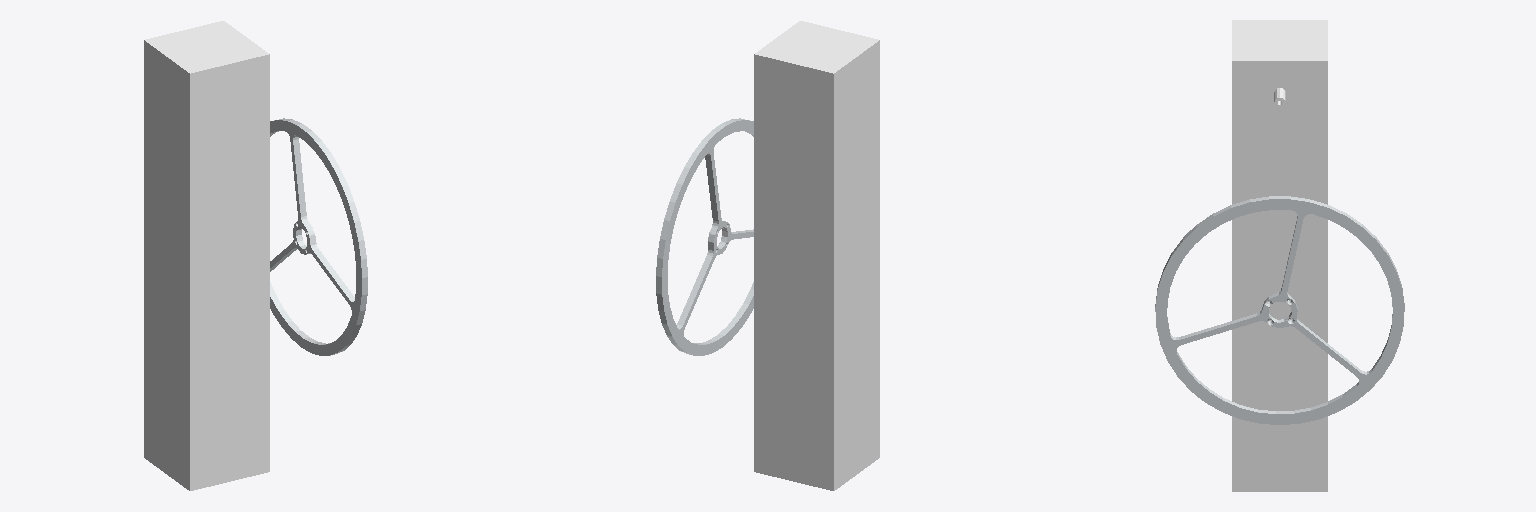
The robot description file, URDF, robot "inertial_wheel":
<?xml version="1.0" encoding="utf-8"?>
<!-- This URDF was automatically created by SolidWorks to URDF Exporter! Originally created by Stephen Brawner (brawner@gmail.com) 
     Commit Version: 1.6.0-4-g7f85cfe  Build Version: 1.6.7995.38578
     For more information, please see http://wiki.ros.org/sw_urdf_exporter -->
<robot
  name="inertial_wheel">
  <link
    name="base_link">
    <inertial>
      <origin
        xyz="2.57576013168561E-05 1.9569274489454E-20 0.200087575844477"
        rpy="0 0 0" />
      <mass
        value="2.56131946891451" />
      <inertia
        ixx="0.0355367988064824"
        ixy="1.23072569026629E-19"
        ixz="-1.1209708093094E-05"
        iyy="0.0355401301955985"
        iyz="-5.87404280233471E-19"
        izz="0.002734017188082" />
    </inertial>
    <visual>
      <origin
        xyz="0 0 0"
        rpy="0 0 0" />
      <geometry>
        <mesh
          filename="package://inertial_wheel/meshes/base_link.STL" />
      </geometry>
      <material
        name="">
        <color
          rgba="1 1 1 1" />
      </material>
    </visual>
    <collision>
      <origin
        xyz="0 0 0"
        rpy="0 0 0" />
      <geometry>
        <mesh
          filename="package://inertial_wheel/meshes/base_link.STL" />
      </geometry>
    </collision>
  </link>
  <link
    name="body_link">
    <inertial>
      <origin
        xyz="-0.0021314 -0.0087625 0.023582"
        rpy="0 0 0" />
      <mass
        value="0.75136" />
      <inertia
        ixx="0.0024331"
        ixy="-1.7152E-06"
        ixz="-1.2034E-06"
        iyy="0.00020294"
        iyz="-2.6313E-06"
        izz="0.0025846" />
    </inertial>
    <visual>
      <origin
        xyz="0 0 0"
        rpy="0 0 0" />
      <geometry>
        <mesh
          filename="package://inertial_wheel/meshes/body_link.STL" />
      </geometry>
      <material
        name="">
        <color
          rgba="1 1 1 1" />
      </material>
    </visual>
    <collision>
      <origin
        xyz="0 0 0"
        rpy="0 0 0" />
      <geometry>
        <mesh
          filename="package://inertial_wheel/meshes/body_link.STL" />
      </geometry>
    </collision>
  </link>
  <joint
    name="body_joint"
    type="continuous">
    <origin
      xyz="0.0527499998627018 -0.00245970967873153 0.370659077505919"
      rpy="-1.5707963267949 0 -1.5707963267949" />
    <parent
      link="base_link" />
    <child
      link="body_link" />
    <axis
      xyz="0 0 1" />
  </joint>
  <link
    name="wheel_link">
    <inertial>
      <origin
        xyz="1.1467E-07 -1.0111E-07 3.9989E-05"
        rpy="0 0 0" />
      <mass
        value="0.12807" />
      <inertia
        ixx="0.00054957"
        ixy="-1.4612E-10"
        ixz="-4.1223E-11"
        iyy="0.00054957"
        iyz="3.6291E-11"
        izz="0.0010984" />
    </inertial>
    <visual>
      <origin
        xyz="0 0 0"
        rpy="0 0 0" />
      <geometry>
        <mesh
          filename="package://inertial_wheel/meshes/wheel_link.STL" />
      </geometry>
      <material
        name="">
        <color
          rgba="0.89804 0.91765 0.92941 1" />
      </material>
    </visual>
    <collision>
      <origin
        xyz="0 0 0"
        rpy="0 0 0" />
      <geometry>
        <mesh
          filename="package://inertial_wheel/meshes/wheel_link.STL" />
      </geometry>
    </collision>
  </link>
  <joint
    name="wheel_joint"
    type="continuous">
    <origin
      xyz="-0.0024597 0.17566 0.045207"
      rpy="0 0 0" />
    <parent
      link="body_link" />
    <child
      link="wheel_link" />
    <axis
      xyz="0 0 -1" />
  </joint>
</robot>

--- Facts derived from the render (not from the file) ---
Views: 3 orthographic renders of the robot side by side, from view 1: azimuth 30°, elevation 25°; view 2: azimuth 150°, elevation 25°; view 3: azimuth 270°, elevation 25°.
Robot: inertial_wheel — 3 links, 2 joints (2 continuous); root link base_link; default pose: every joint at zero.
Visible links, largest first — view 1: base_link, wheel_link; view 2: base_link, wheel_link; view 3: base_link, wheel_link.
Boxes of the visible links, bbox=[...] form: base_link: bbox=[144, 21, 269, 490]; wheel_link: bbox=[270, 118, 367, 355]; base_link: bbox=[754, 21, 879, 490]; wheel_link: bbox=[656, 118, 753, 355]; base_link: bbox=[1232, 20, 1327, 491]; wheel_link: bbox=[1155, 196, 1404, 424].
Bounding box of the posed robot: 0.141 × 0.2098 × 0.4 m (x, y, z).
Meshes: 3 distinct files referenced, 2 mesh visuals loaded (2 binary STL); not drawn: 1 (reference not matched to a file when rendering).
